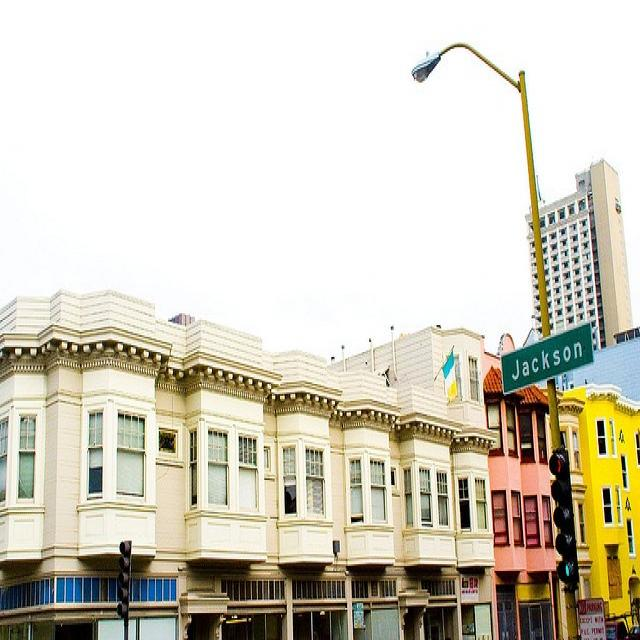pole: (519, 69, 580, 633)
